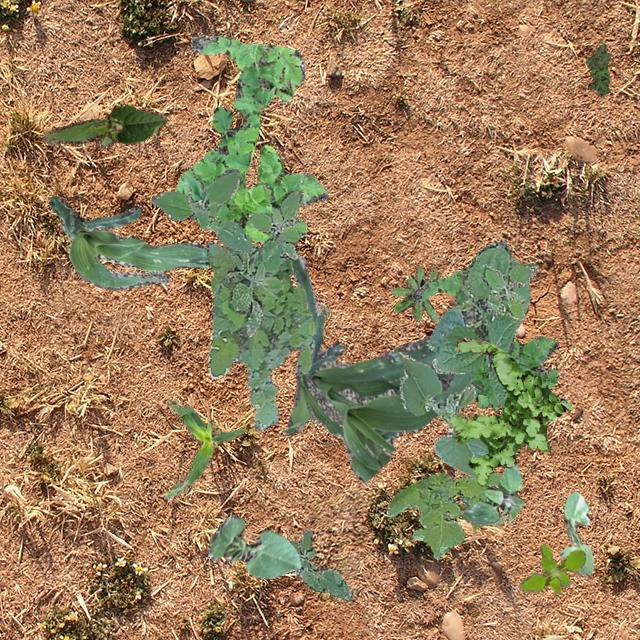crop: (281, 254, 473, 482), (48, 194, 240, 288), (426, 240, 530, 408), (398, 350, 487, 474), (162, 398, 244, 498), (208, 514, 300, 578), (40, 104, 164, 148), (558, 490, 592, 574)
weed: (175, 35, 326, 242), (150, 168, 302, 336), (410, 266, 558, 410), (205, 240, 314, 430), (449, 336, 572, 486), (386, 472, 504, 558), (290, 528, 350, 600), (461, 463, 524, 522), (482, 258, 538, 320), (518, 544, 584, 594), (390, 266, 440, 322), (584, 42, 610, 96)
